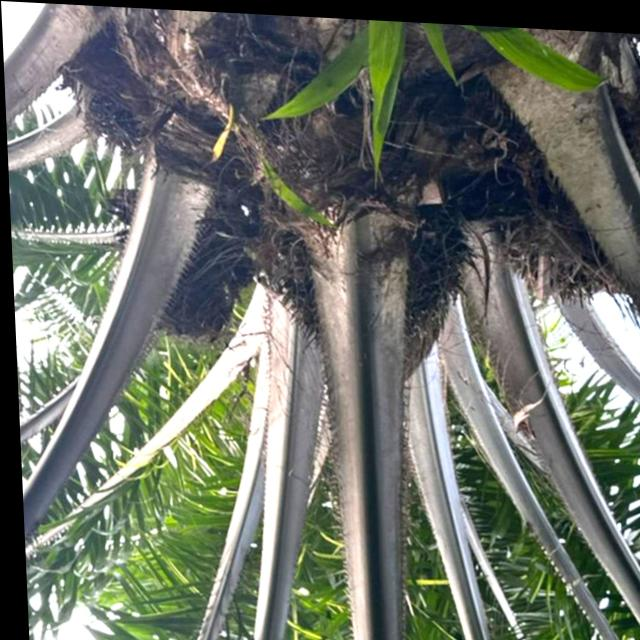unripe: (255, 173, 490, 406)
